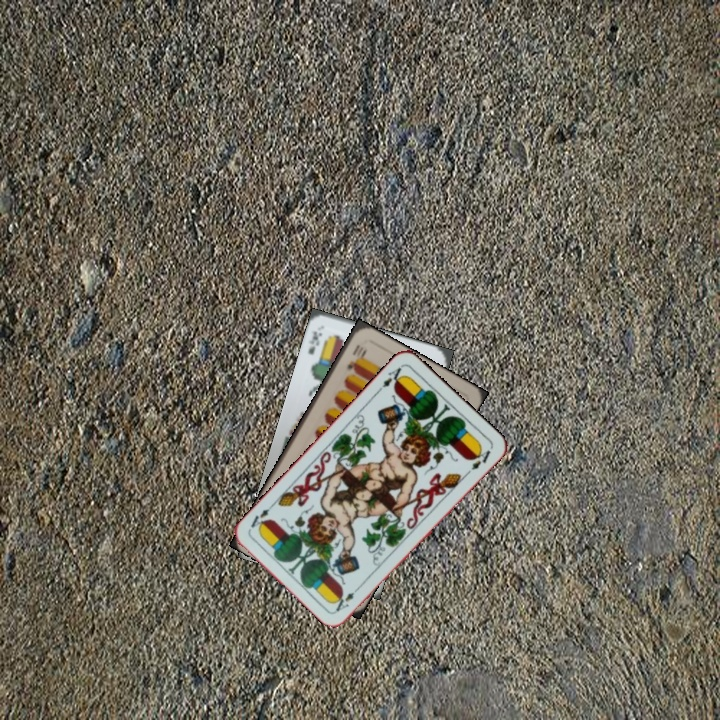E10: (343, 340, 368, 373)
EA: (373, 362, 406, 395), (331, 581, 364, 614)
EK: (304, 327, 325, 357)
